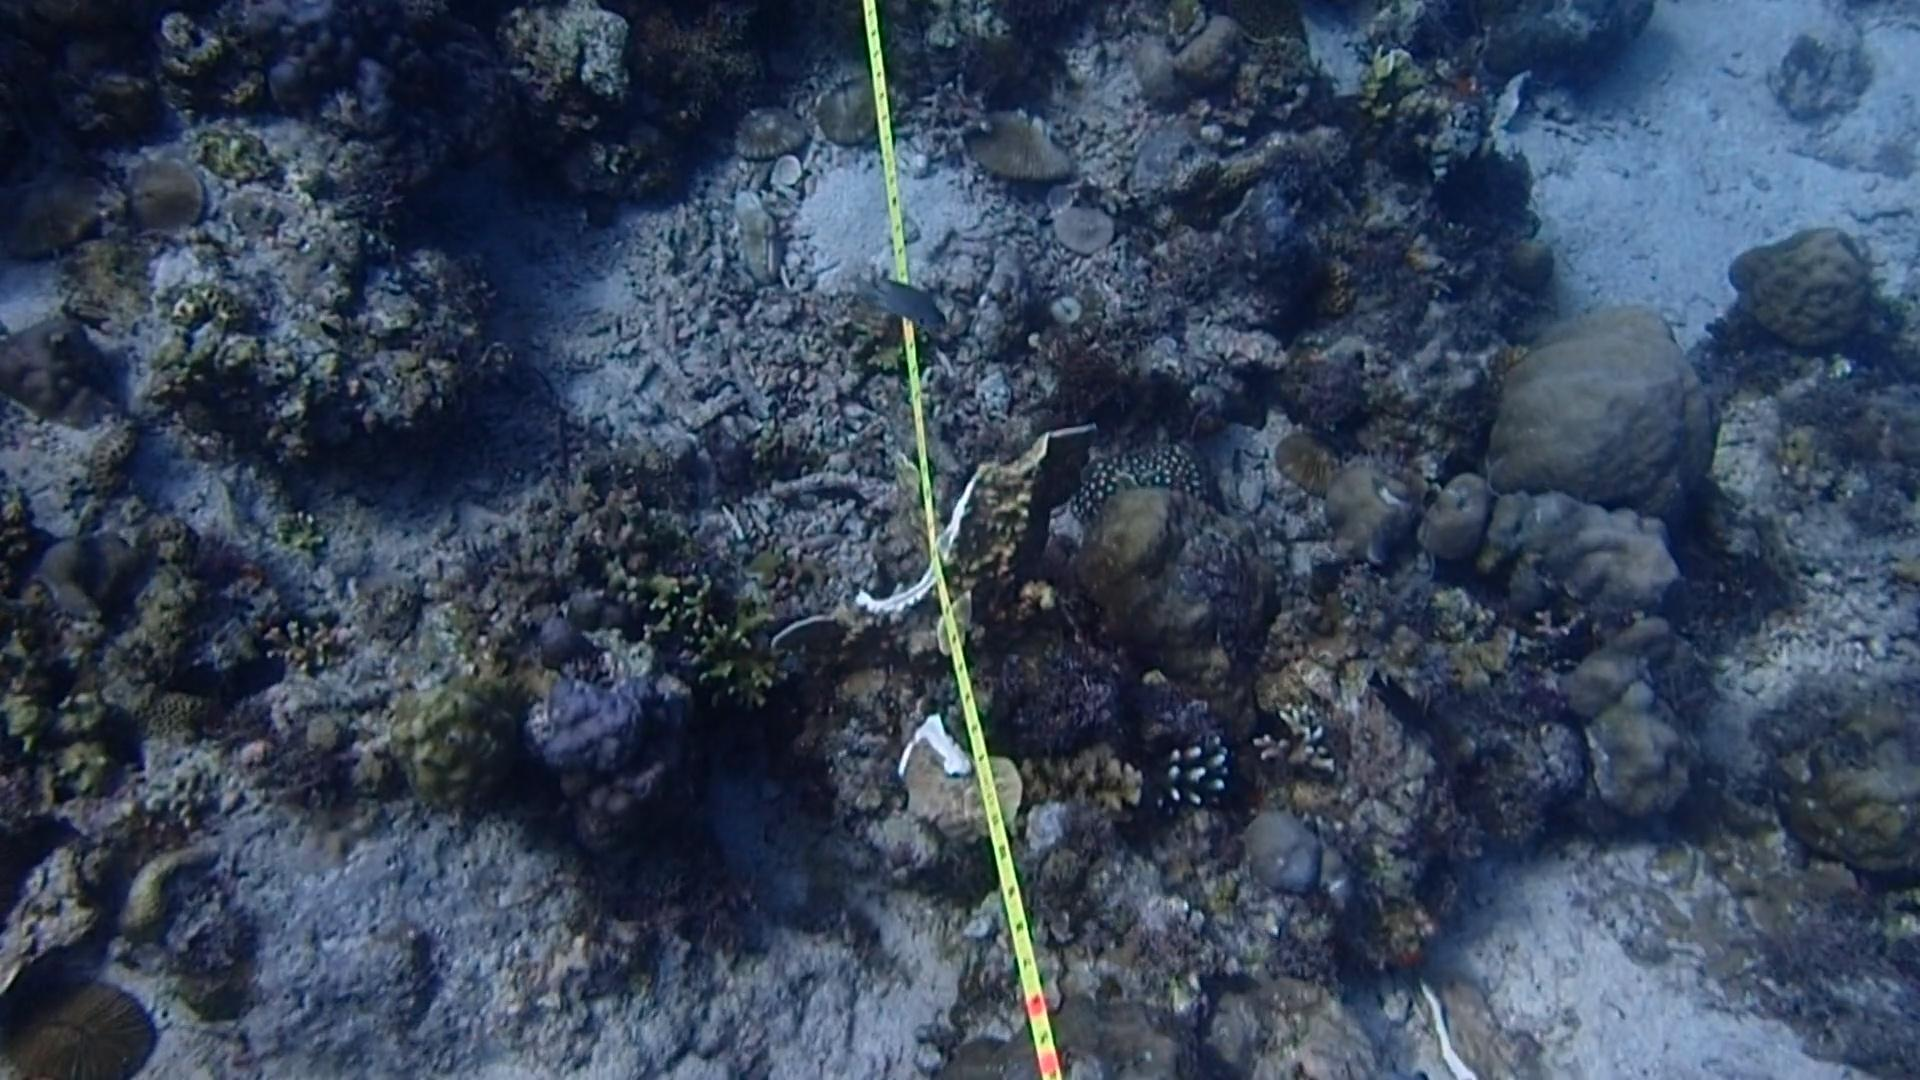Light Fish: (862, 268, 956, 347)
